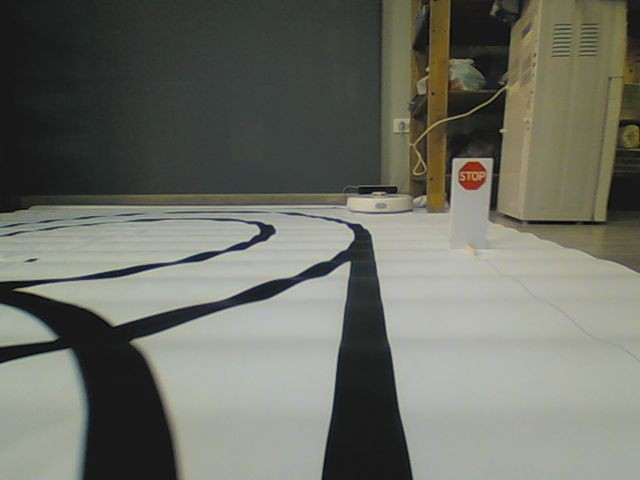Stop: (456, 160, 488, 188)
